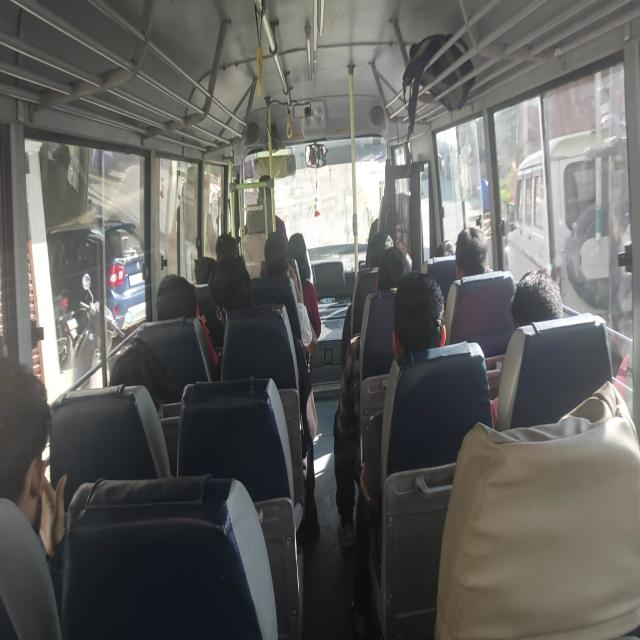person: (434, 379, 639, 638), (352, 270, 447, 636), (207, 253, 320, 539), (333, 245, 412, 549), (0, 355, 67, 638), (490, 268, 564, 427), (340, 245, 411, 369), (260, 231, 318, 361), (444, 226, 493, 343), (108, 336, 174, 419), (392, 271, 447, 357), (287, 232, 321, 342), (207, 254, 254, 328), (511, 268, 564, 331), (45, 144, 80, 227), (455, 226, 491, 279)
